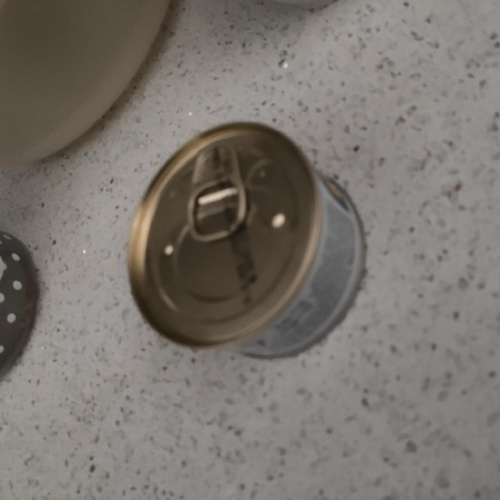tonno: (111, 117, 373, 364)
